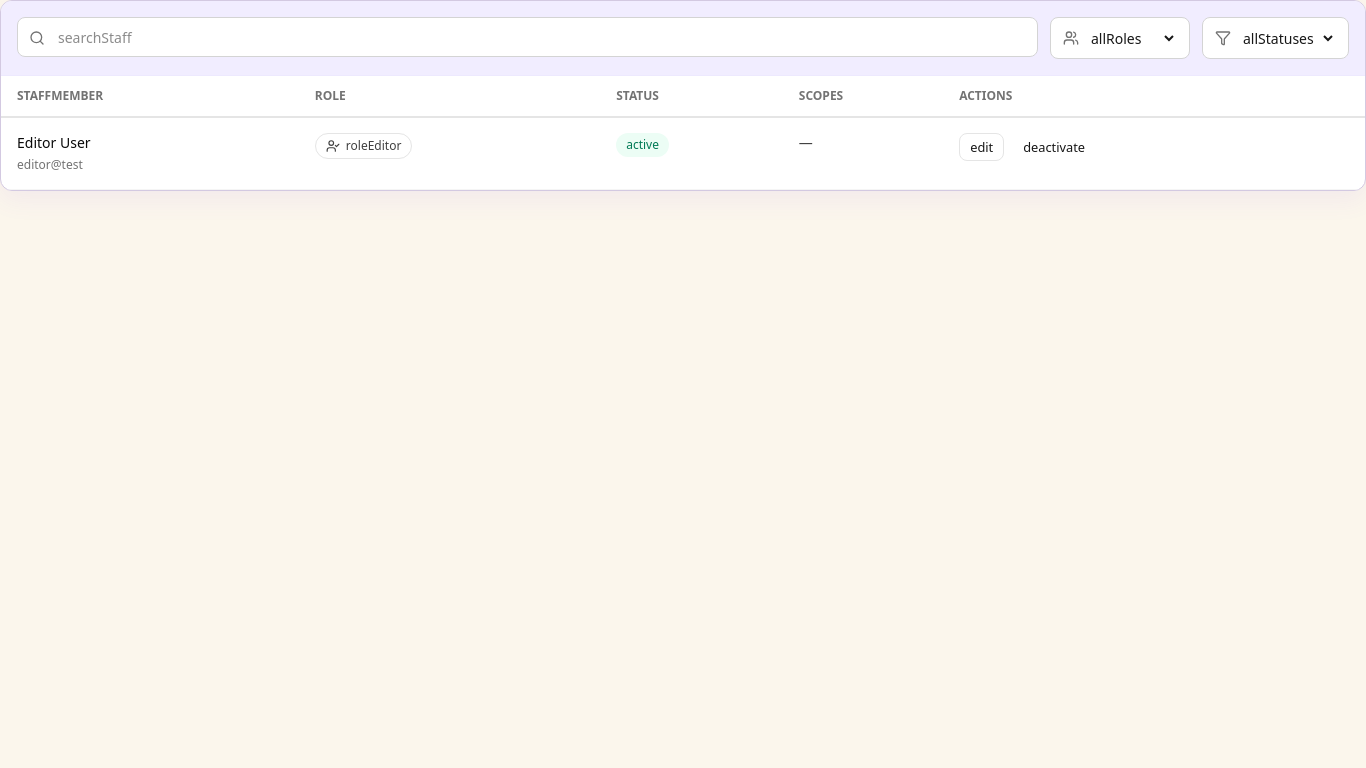
Scenario: admin staff role permissions › toggles all edit-user grade and event type scopes on and off
What coordinates should you click on to do the following:
click the button "edit"
I would click on:
 (982, 147)
Its box is [959,133,1004,161].
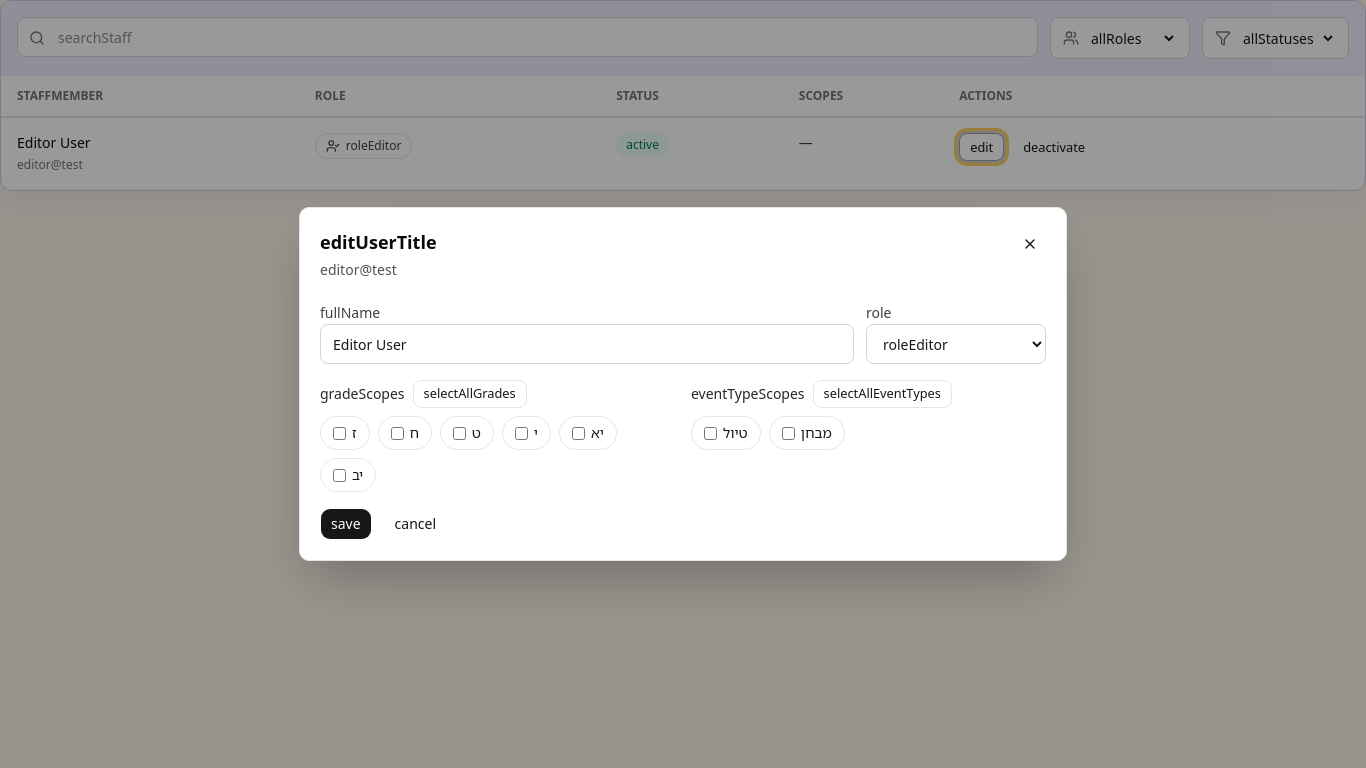
What coordinates should you click on to do the following:
click the button "selectAllGrades"
I would click on:
 (470, 394)
Its box is [413,380,527,408].
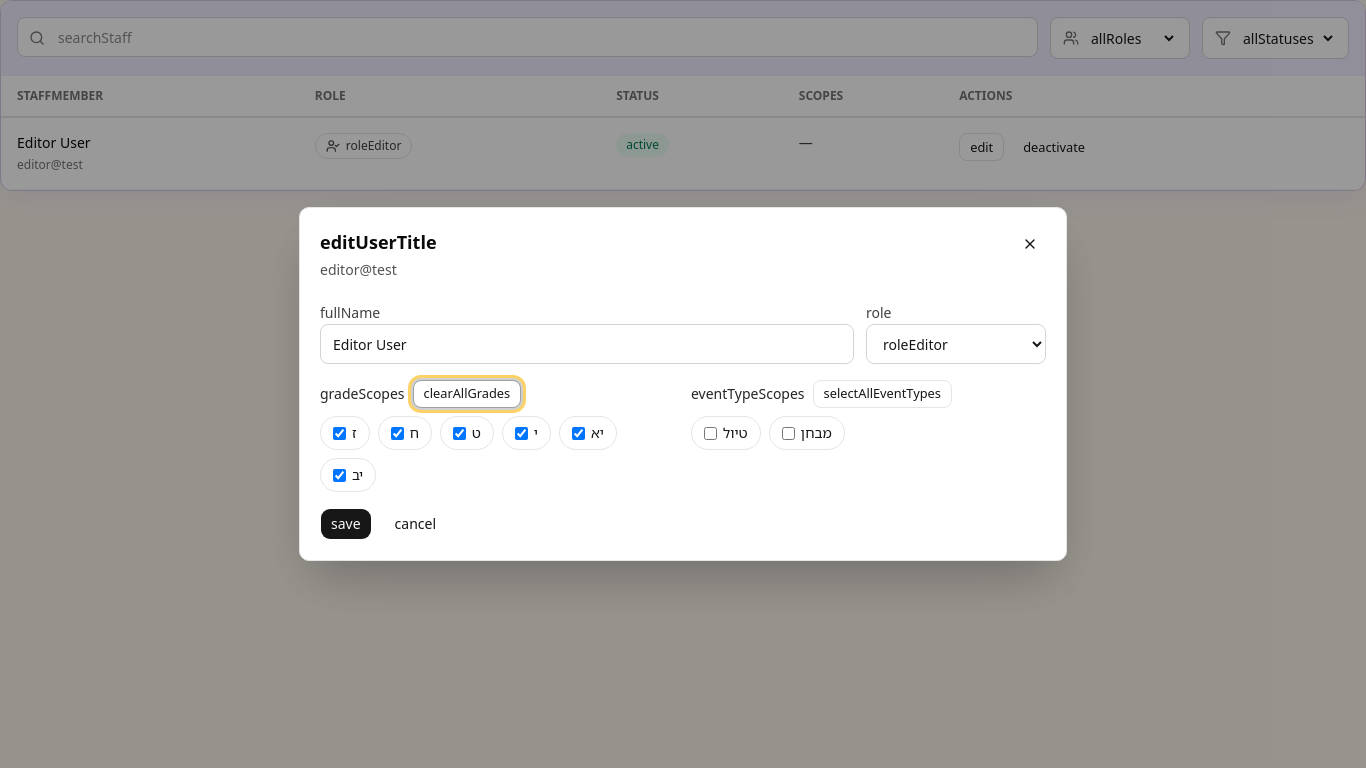
Expected: the checkbox labelled "ז" is checked, [333,426,346,440]
Expected: the checkbox labelled "יב" is checked, [333,468,346,482]
What coordinates should you click on to do the following:
click the button "clearAllGrades"
I would click on:
 (467, 394)
Its box is [413,380,521,408].
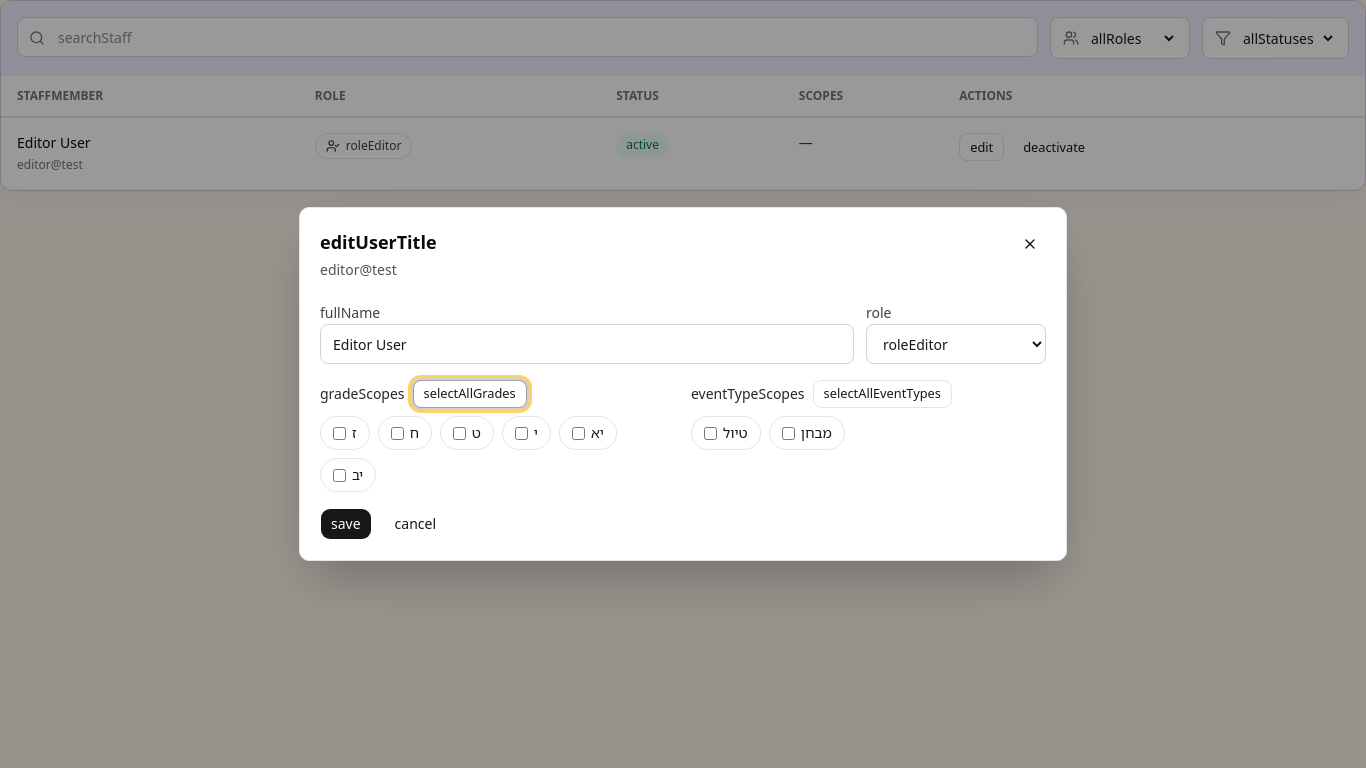
Expected: the checkbox labelled "ז" is not checked, [333,426,346,440]
Expected: the checkbox labelled "יב" is not checked, [333,468,346,482]
What coordinates should you click on to do the following:
click the button "selectAllEventTypes"
I would click on:
 (882, 394)
Its box is [813,380,952,408].
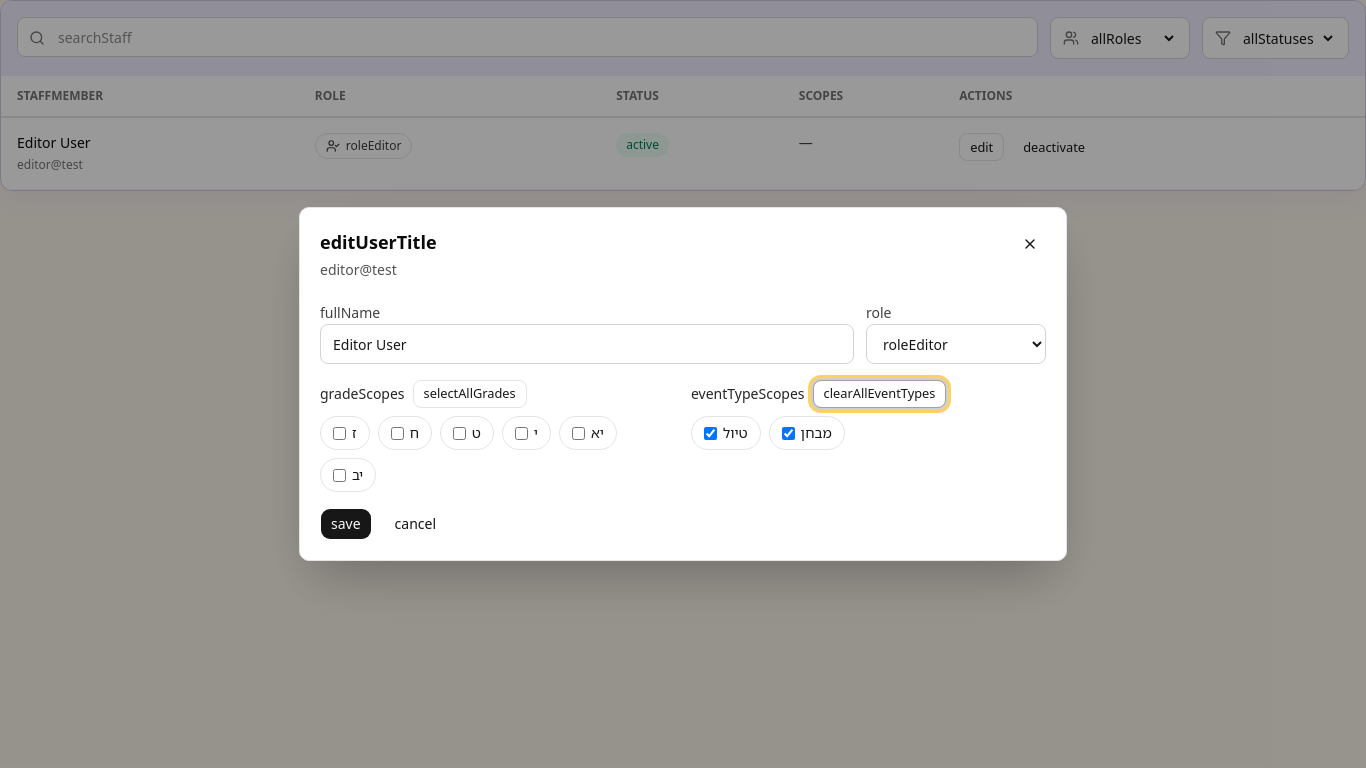
Expected: the checkbox labelled "טיול" is checked, [704,426,717,440]
Expected: the checkbox labelled "מבחן" is checked, [782,426,794,440]
What coordinates should you click on to do the following:
click the button "clearAllEventTypes"
I would click on:
 (880, 394)
Its box is [813,380,946,408].
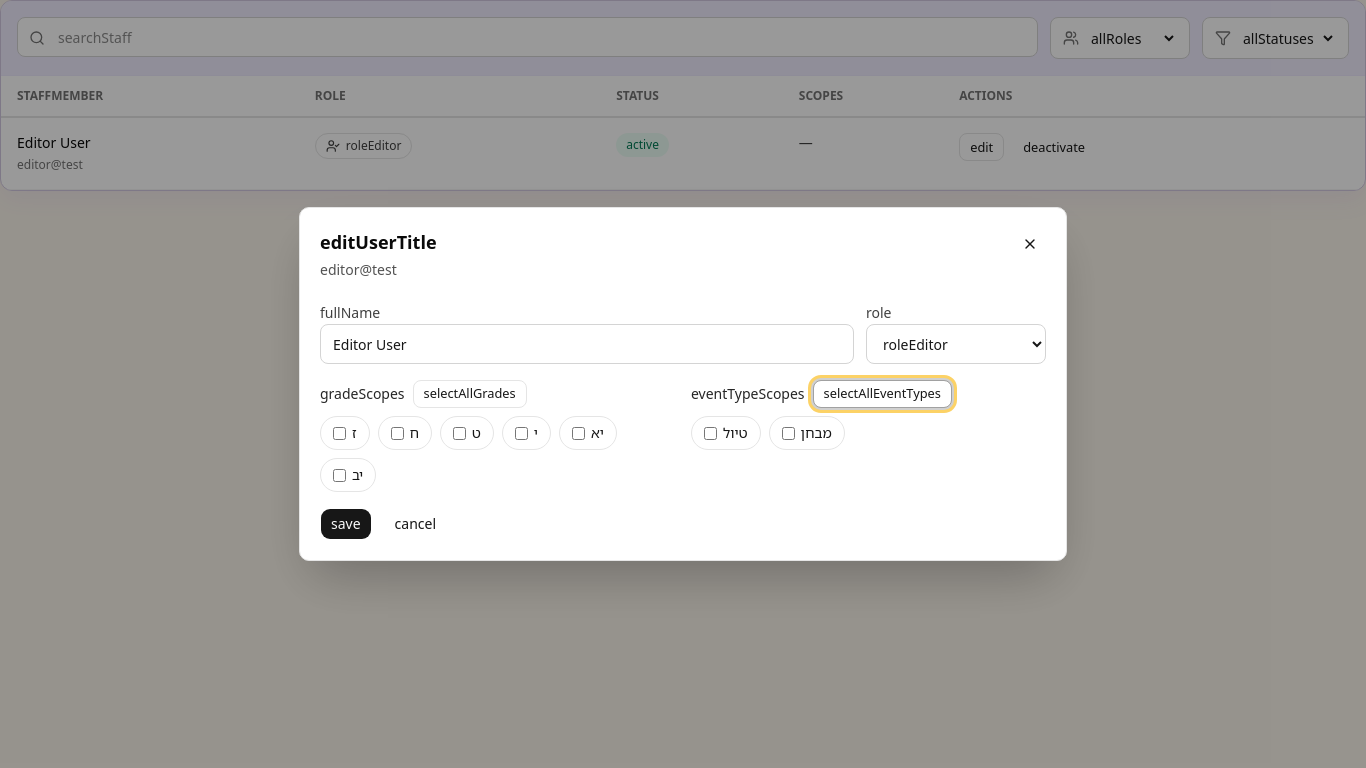
Expected: the checkbox labelled "טיול" is not checked, [704,426,717,440]
Expected: the checkbox labelled "מבחן" is not checked, [782,426,794,440]
